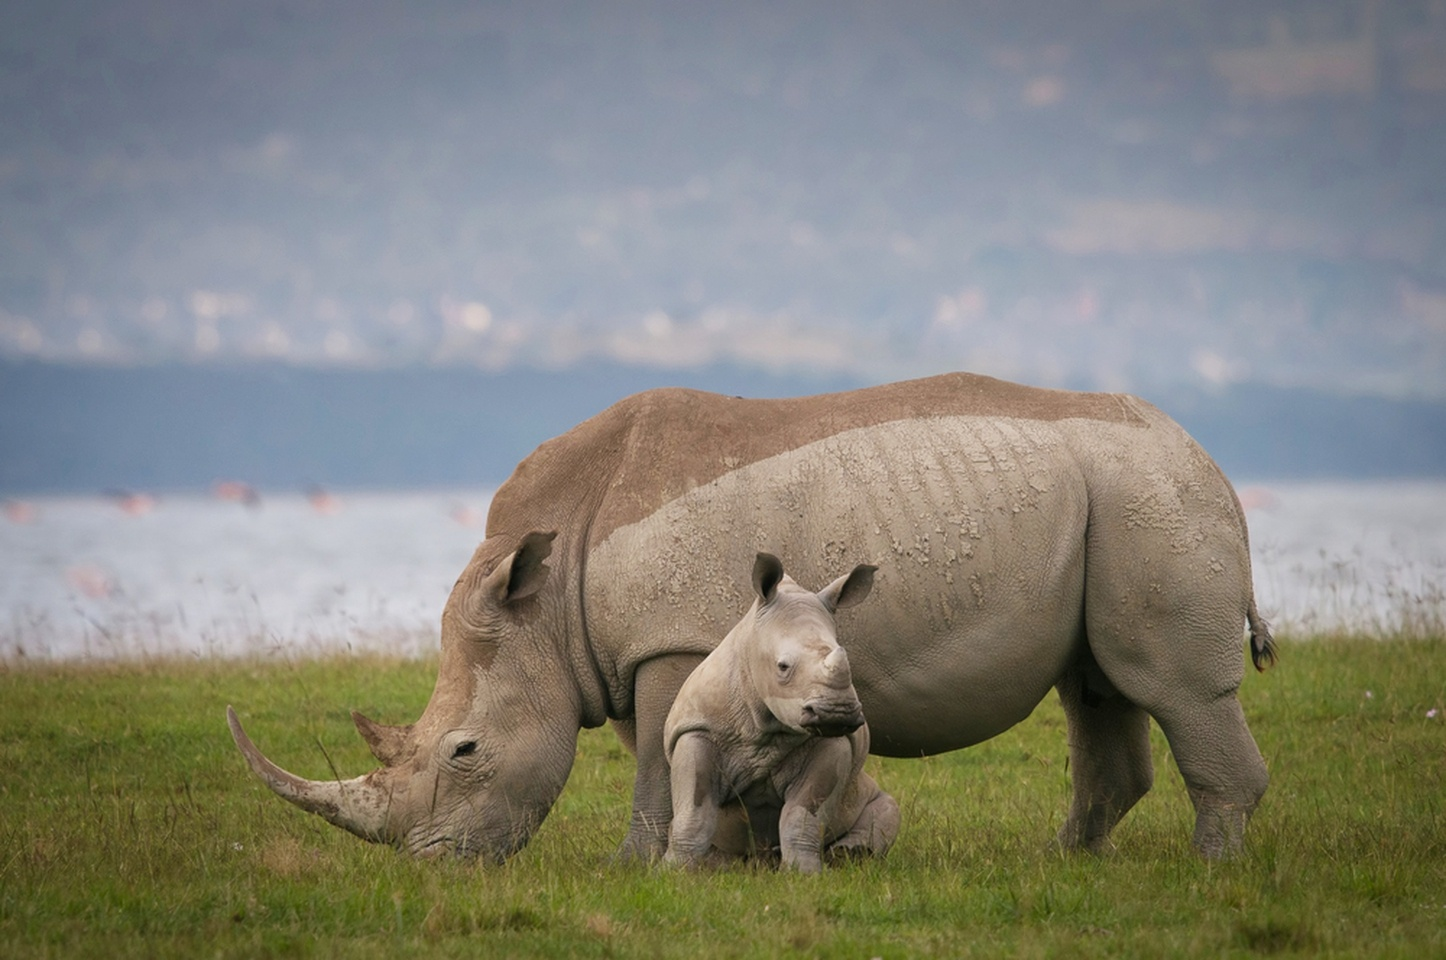rhino: (222, 372, 1284, 854), (664, 547, 897, 873)
